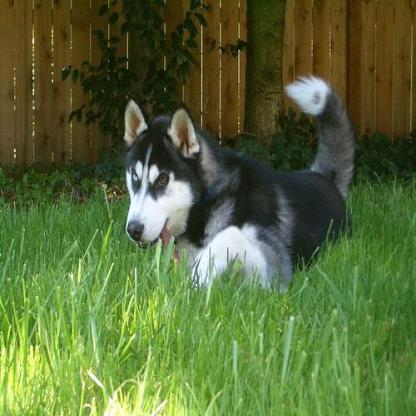Siberian_husky: (121, 73, 353, 293)
